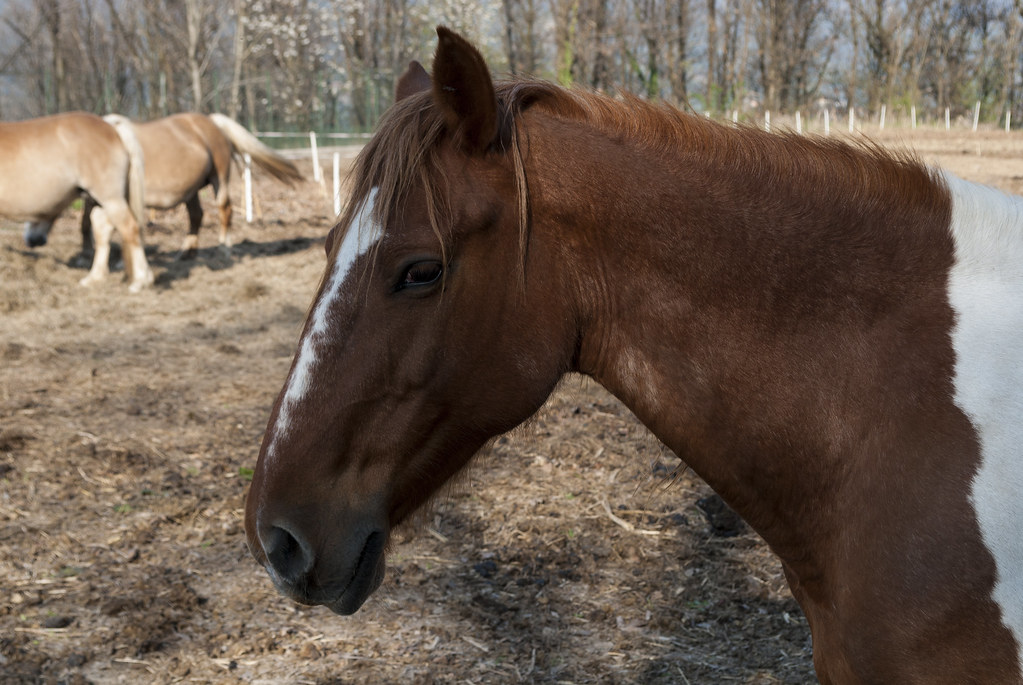horse: (152, 25, 1023, 685)
